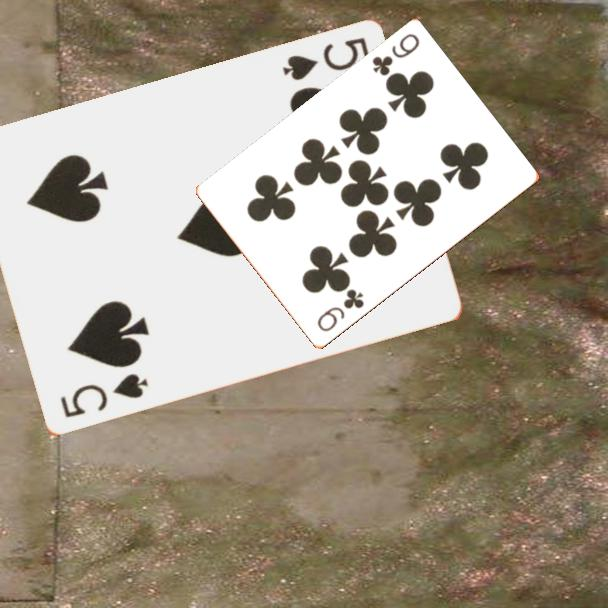c09: (368, 30, 423, 79), (313, 286, 367, 335)
s05: (56, 370, 151, 422), (279, 34, 372, 84)
